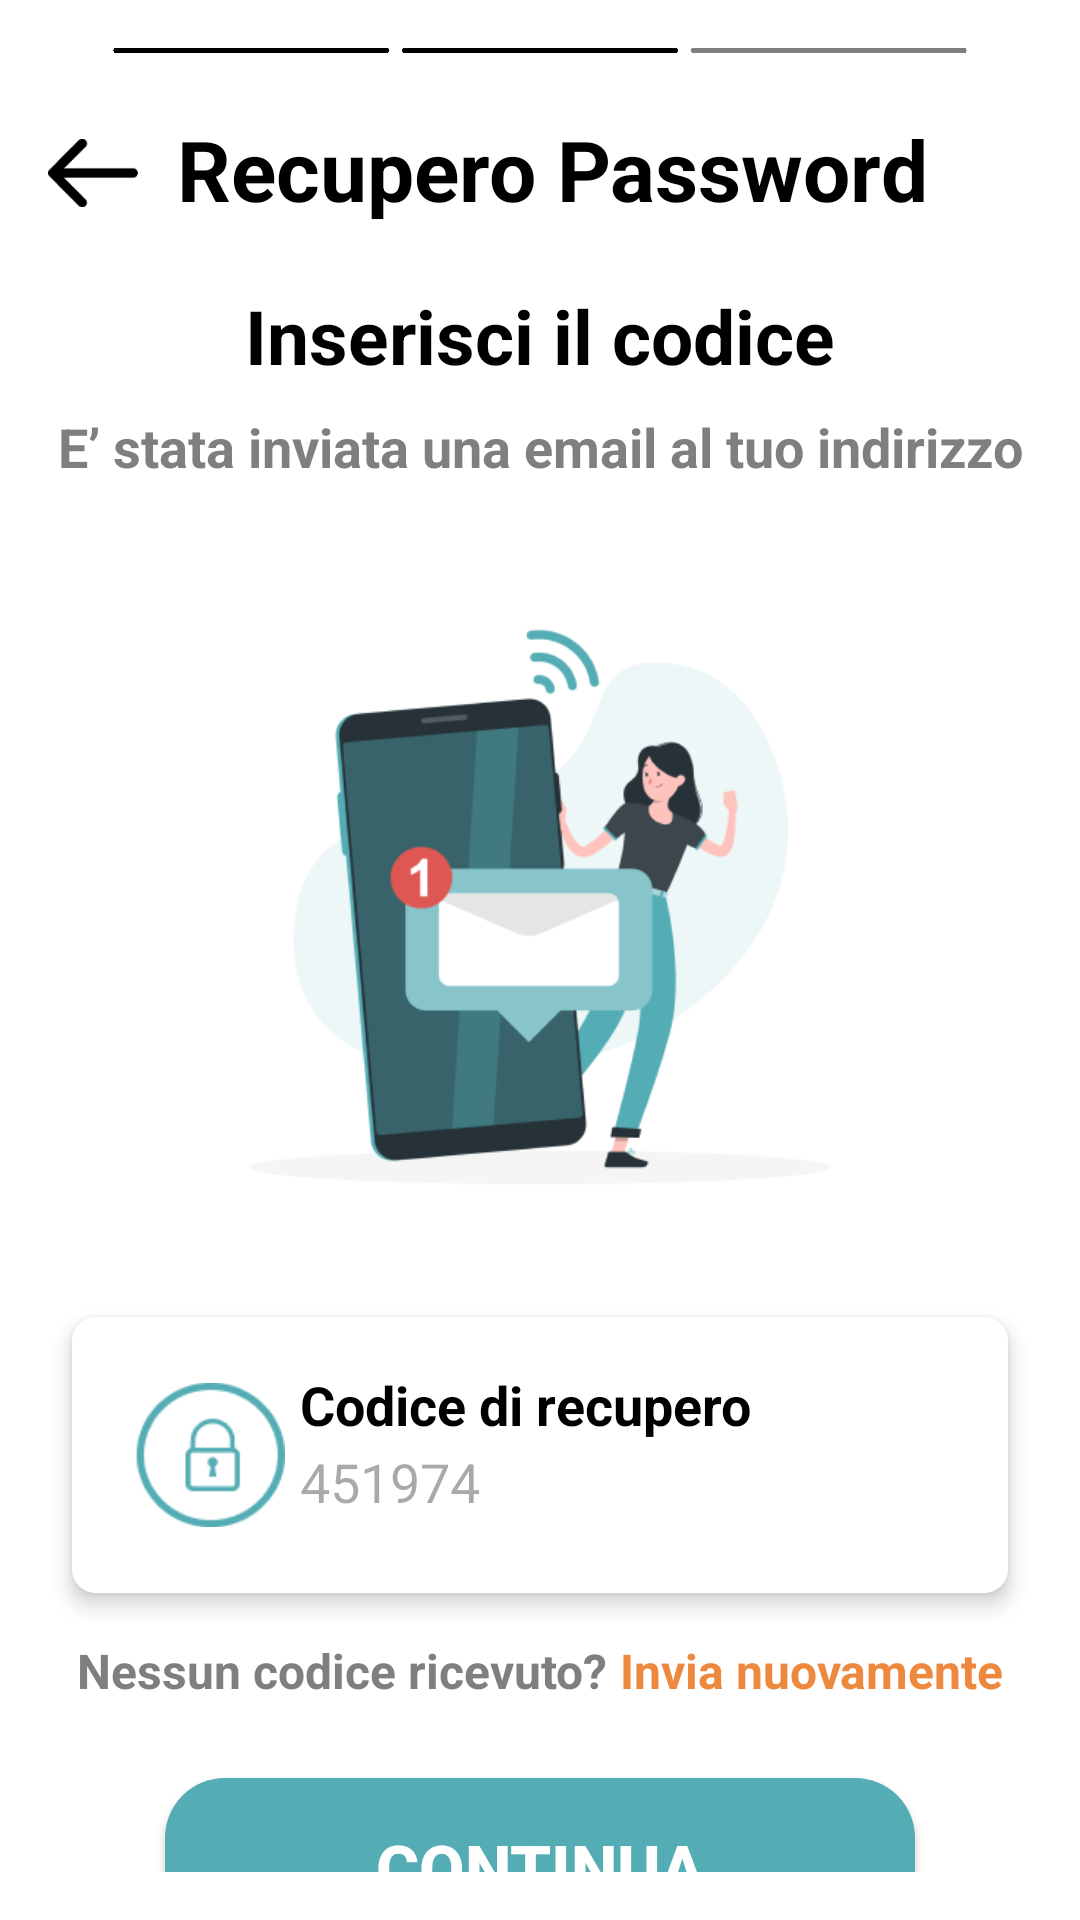

Named icons in this screenshot (1080×1920) and their centers, (x=x, y=y):
freccia: (x=93, y=173)
